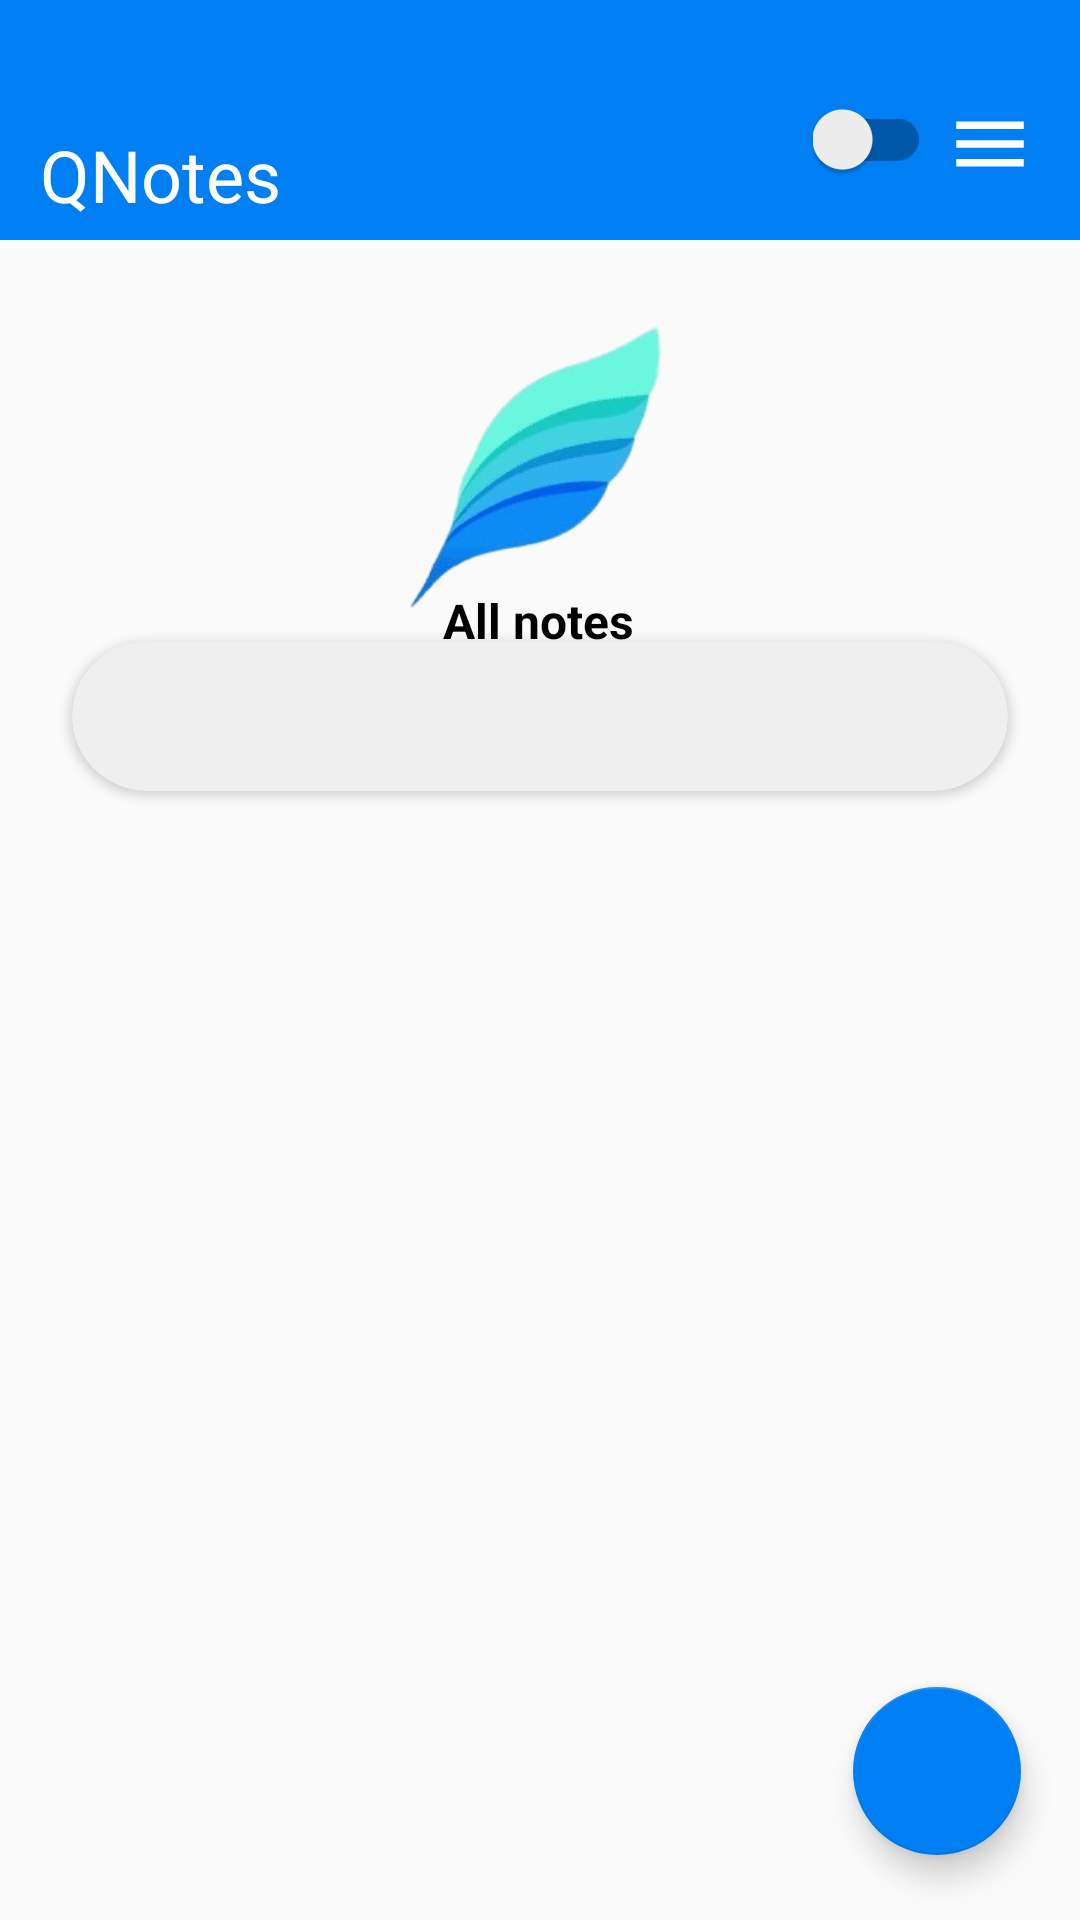

Named icons in this screenshot (1080px×1920px) and their bounding boxes, (x1, y1, x2, y2):
menu: (956, 121, 1024, 167)
